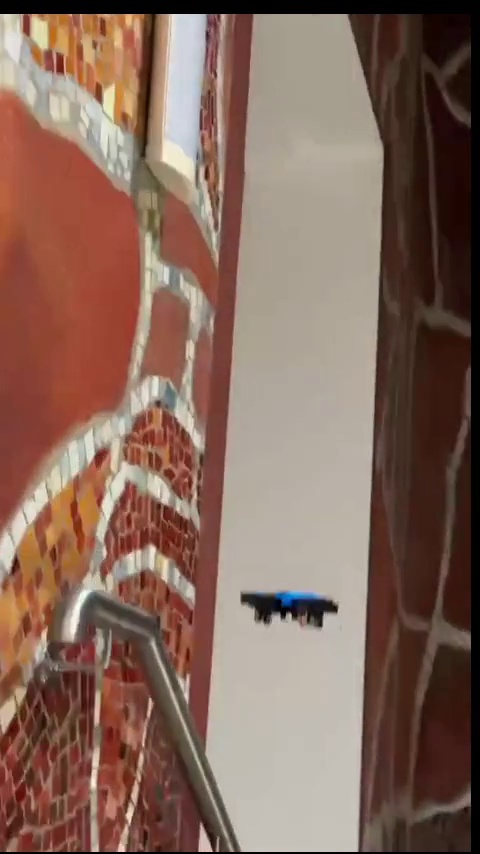drone: (240, 589, 340, 630)
